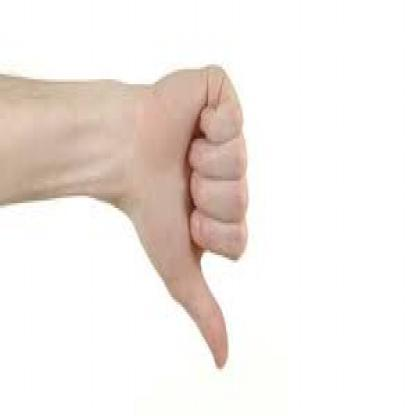thumb_down: (135, 53, 254, 378)
